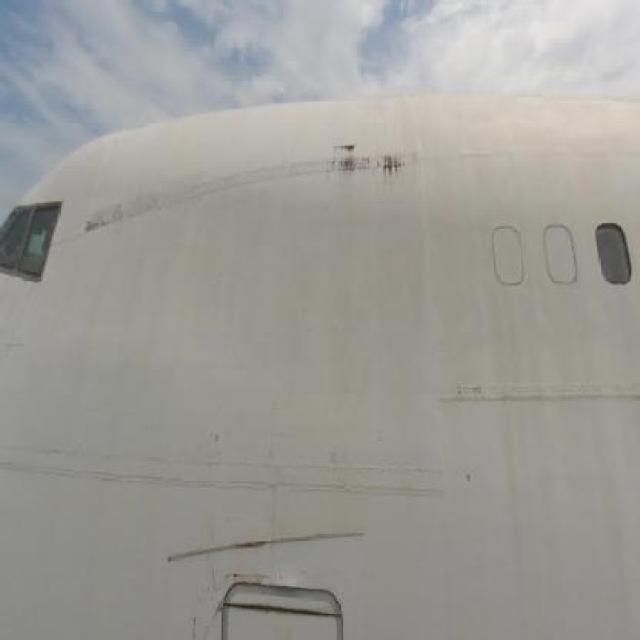Rust: (318, 128, 414, 188)
Scartch: (77, 191, 129, 244), (195, 571, 227, 629)
